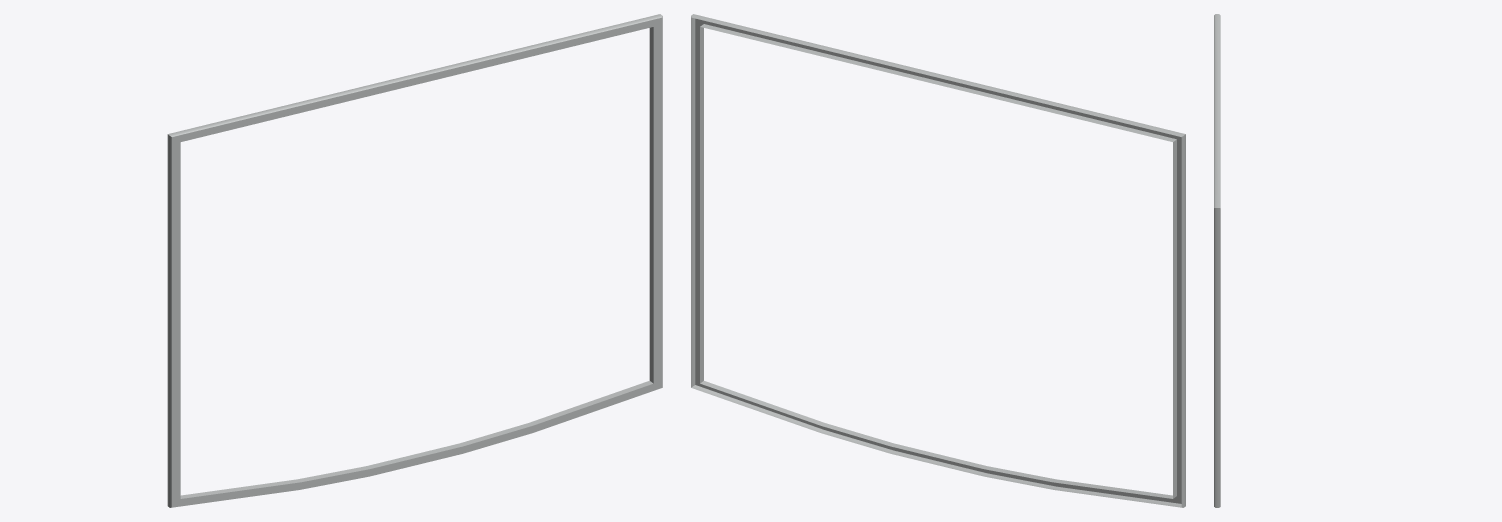
File: FridgeDrawer2_24_FridgeDrawer2D6_2_GeomSubset_1.obj
3 renders of one model, left to right at view 1: azimuth 30°, elevation 25°; view 2: azimuth 150°, elevation 25°; view 3: azimuth 270°, elevation 25°, orthographic. The views are drawn at different scales.
Visible parts, largest first — view 1: FridgeDrawer2_24_FridgeDrawer2D6_2_GeomSubset_1; view 2: FridgeDrawer2_24_FridgeDrawer2D6_2_GeomSubset_1; view 3: FridgeDrawer2_24_FridgeDrawer2D6_2_GeomSubset_1.
Boxes of the visible parts, x1,y1,x2,y2 form: FridgeDrawer2_24_FridgeDrawer2D6_2_GeomSubset_1: (167,14,662,507); FridgeDrawer2_24_FridgeDrawer2D6_2_GeomSubset_1: (691,14,1185,507); FridgeDrawer2_24_FridgeDrawer2D6_2_GeomSubset_1: (1214,14,1220,507).
Size of the model in its own units: 0.7243 by 0.5472 by 0.4322.
